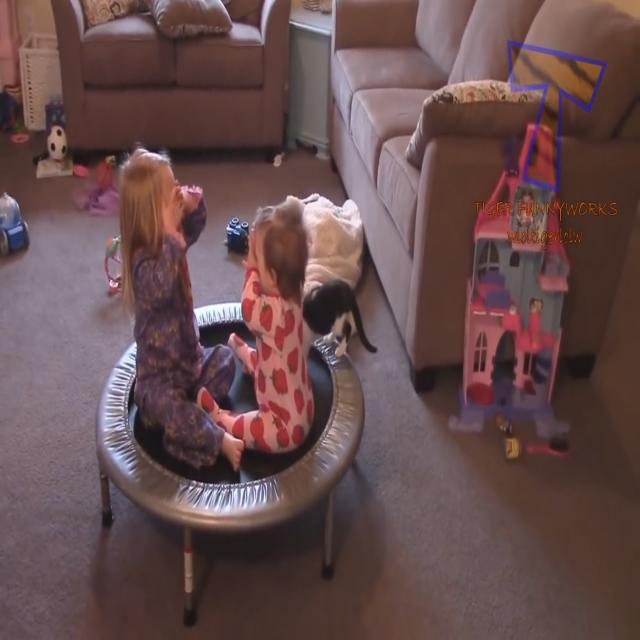safe: (123, 155, 215, 453), (234, 195, 316, 458)
